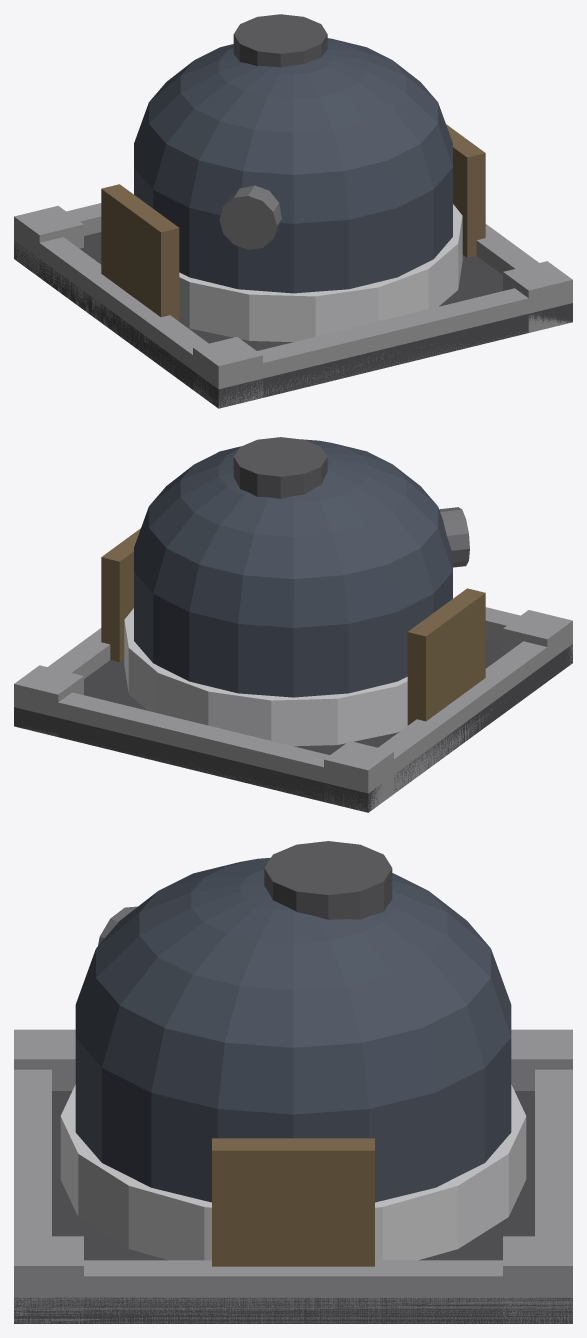
File: vge_life_support_empty.obj
3 renders of one model, top to bottom at view 1: azimuth 30°, elevation 25°; view 2: azimuth 150°, elevation 25°; view 3: azimuth 270°, elevation 25°, orthographic. The views are drawn at different scales.
Parts seen in each view (by area): view 1: vge_life_support_empty_12, vge_life_support_empty_11, vge_life_support_empty_0, vge_life_support_empty_1, vge_life_support_empty_9, vge_life_support_empty_3, vge_life_support_empty_13, vge_life_support_empty_10, vge_life_support_empty_5, vge_life_support_empty_14, vge_life_support_empty_7, vge_life_support_empty_6 (+2 smaller); view 2: vge_life_support_empty_12, vge_life_support_empty_11, vge_life_support_empty_0, vge_life_support_empty_2, vge_life_support_empty_9, vge_life_support_empty_3, vge_life_support_empty_13, vge_life_support_empty_10, vge_life_support_empty_6, vge_life_support_empty_5, vge_life_support_empty_8, vge_life_support_empty_4 (+2 smaller); view 3: vge_life_support_empty_12, vge_life_support_empty_4, vge_life_support_empty_11, vge_life_support_empty_0, vge_life_support_empty_10, vge_life_support_empty_13, vge_life_support_empty_1, vge_life_support_empty_2, vge_life_support_empty_8, vge_life_support_empty_7, vge_life_support_empty_5, vge_life_support_empty_6.
Part boxes in pixels (x1=…): vge_life_support_empty_12: x1=134, y1=38, x2=452, y2=293; vge_life_support_empty_11: x1=179, y1=204, x2=462, y2=341; vge_life_support_empty_0: x1=14, y1=232, x2=572, y2=408; vge_life_support_empty_1: x1=204, y1=287, x2=572, y2=408; vge_life_support_empty_9: x1=101, y1=184, x2=179, y2=321; vge_life_support_empty_3: x1=28, y1=235, x2=208, y2=397; vge_life_support_empty_13: x1=233, y1=14, x2=327, y2=67; vge_life_support_empty_10: x1=446, y1=124, x2=485, y2=257; vge_life_support_empty_5: x1=193, y1=337, x2=262, y2=407; vge_life_support_empty_14: x1=219, y1=185, x2=281, y2=249; vge_life_support_empty_7: x1=503, y1=261, x2=572, y2=332; vge_life_support_empty_6: x1=14, y1=206, x2=83, y2=276; vge_life_support_empty_12: x1=134, y1=439, x2=452, y2=697; vge_life_support_empty_11: x1=124, y1=608, x2=407, y2=746; vge_life_support_empty_0: x1=14, y1=636, x2=572, y2=812; vge_life_support_empty_2: x1=14, y1=692, x2=382, y2=812; vge_life_support_empty_9: x1=407, y1=588, x2=485, y2=725; vge_life_support_empty_3: x1=378, y1=639, x2=558, y2=801; vge_life_support_empty_13: x1=233, y1=437, x2=327, y2=498; vge_life_support_empty_10: x1=101, y1=528, x2=140, y2=661; vge_life_support_empty_6: x1=324, y1=741, x2=393, y2=812; vge_life_support_empty_5: x1=503, y1=610, x2=572, y2=663; vge_life_support_empty_8: x1=14, y1=665, x2=83, y2=736; vge_life_support_empty_4: x1=48, y1=628, x2=110, y2=678; vge_life_support_empty_12: x1=75, y1=857, x2=511, y2=1202; vge_life_support_empty_4: x1=52, y1=1260, x2=534, y2=1323; vge_life_support_empty_11: x1=60, y1=1084, x2=526, y2=1260; vge_life_support_empty_0: x1=14, y1=1091, x2=572, y2=1323; vge_life_support_empty_10: x1=212, y1=1138, x2=374, y2=1266; vge_life_support_empty_13: x1=264, y1=841, x2=392, y2=919; vge_life_support_empty_1: x1=14, y1=1069, x2=51, y2=1323; vge_life_support_empty_2: x1=535, y1=1069, x2=572, y2=1323; vge_life_support_empty_8: x1=503, y1=1236, x2=572, y2=1323; vge_life_support_empty_7: x1=14, y1=1236, x2=83, y2=1323; vge_life_support_empty_5: x1=14, y1=1029, x2=75, y2=1090; vge_life_support_empty_6: x1=511, y1=1029, x2=572, y2=1090.
Bounding box in the file's own units: 1.92 × 1.28 × 1.92.
